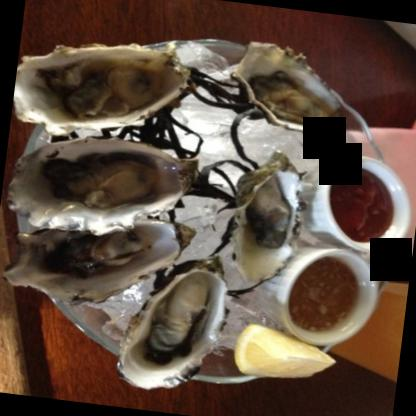oyster: (0, 126, 201, 247), (3, 200, 195, 314), (9, 34, 195, 148), (114, 259, 229, 396), (220, 153, 309, 293), (228, 38, 346, 134)
